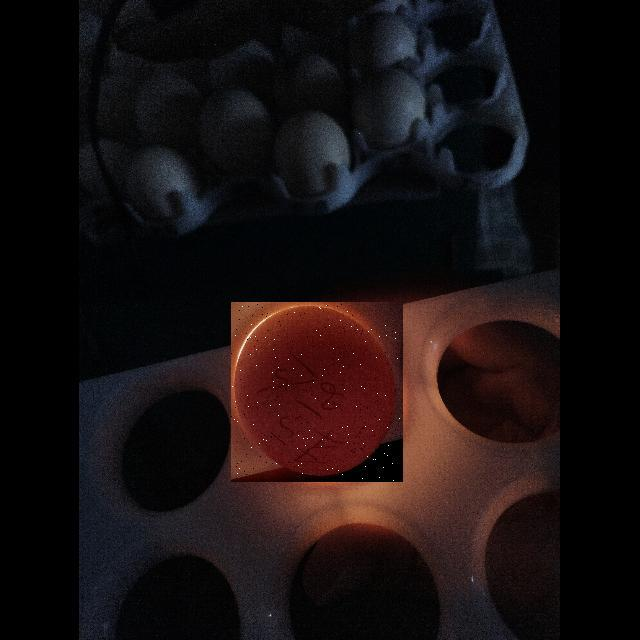Infertile: (231, 302, 403, 482)
